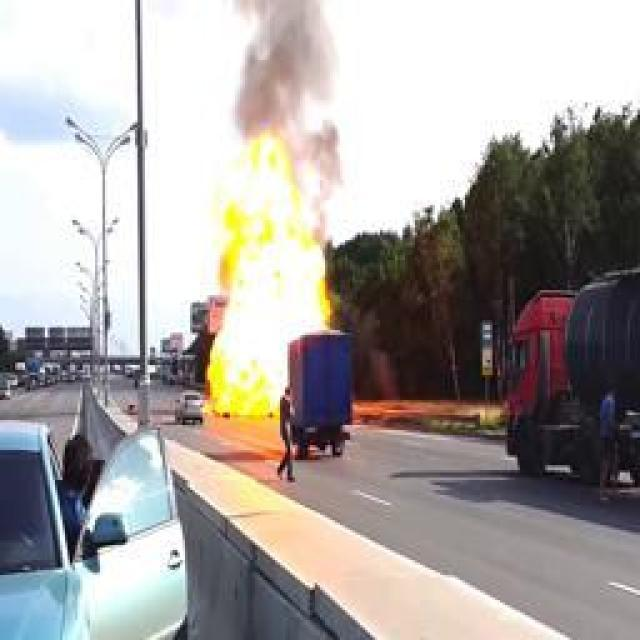Fire: (208, 135, 348, 415)
